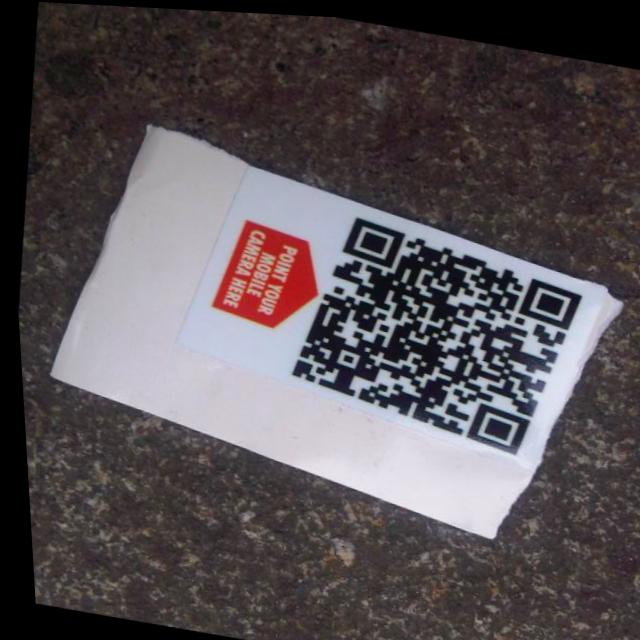qrcode: (274, 204, 590, 459)
